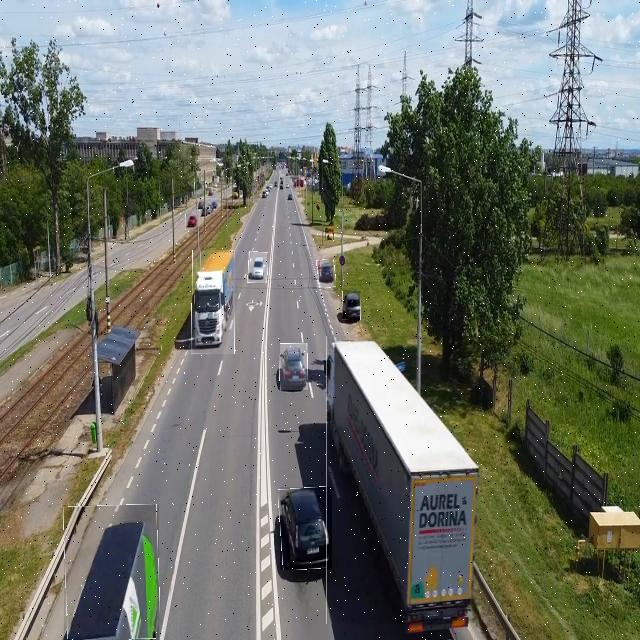Car: (280, 487, 332, 570), (280, 343, 308, 390), (248, 252, 267, 283), (342, 290, 361, 320), (317, 260, 336, 288), (185, 214, 198, 230)
Truck: (326, 336, 479, 624), (64, 505, 159, 640), (192, 250, 235, 354)
